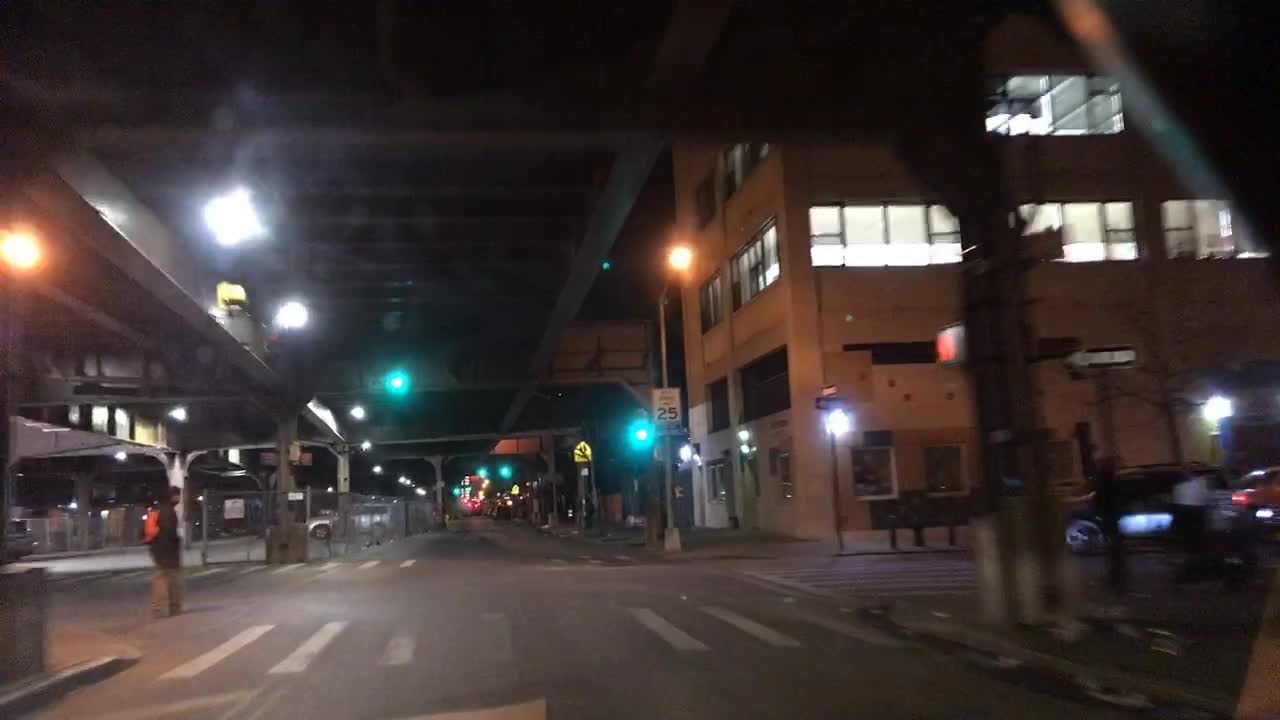car: (1055, 460, 1226, 553), (1210, 464, 1279, 546), (301, 502, 394, 539), (1, 514, 37, 560)
person: (139, 484, 184, 622)
traffic light: (931, 326, 964, 363), (368, 369, 404, 389), (635, 406, 647, 443), (473, 466, 487, 481), (499, 466, 509, 480)
traffic sign: (1063, 346, 1135, 373), (653, 388, 681, 425), (812, 395, 857, 409), (569, 439, 591, 465), (649, 425, 691, 437), (819, 381, 840, 395), (509, 481, 520, 495)
